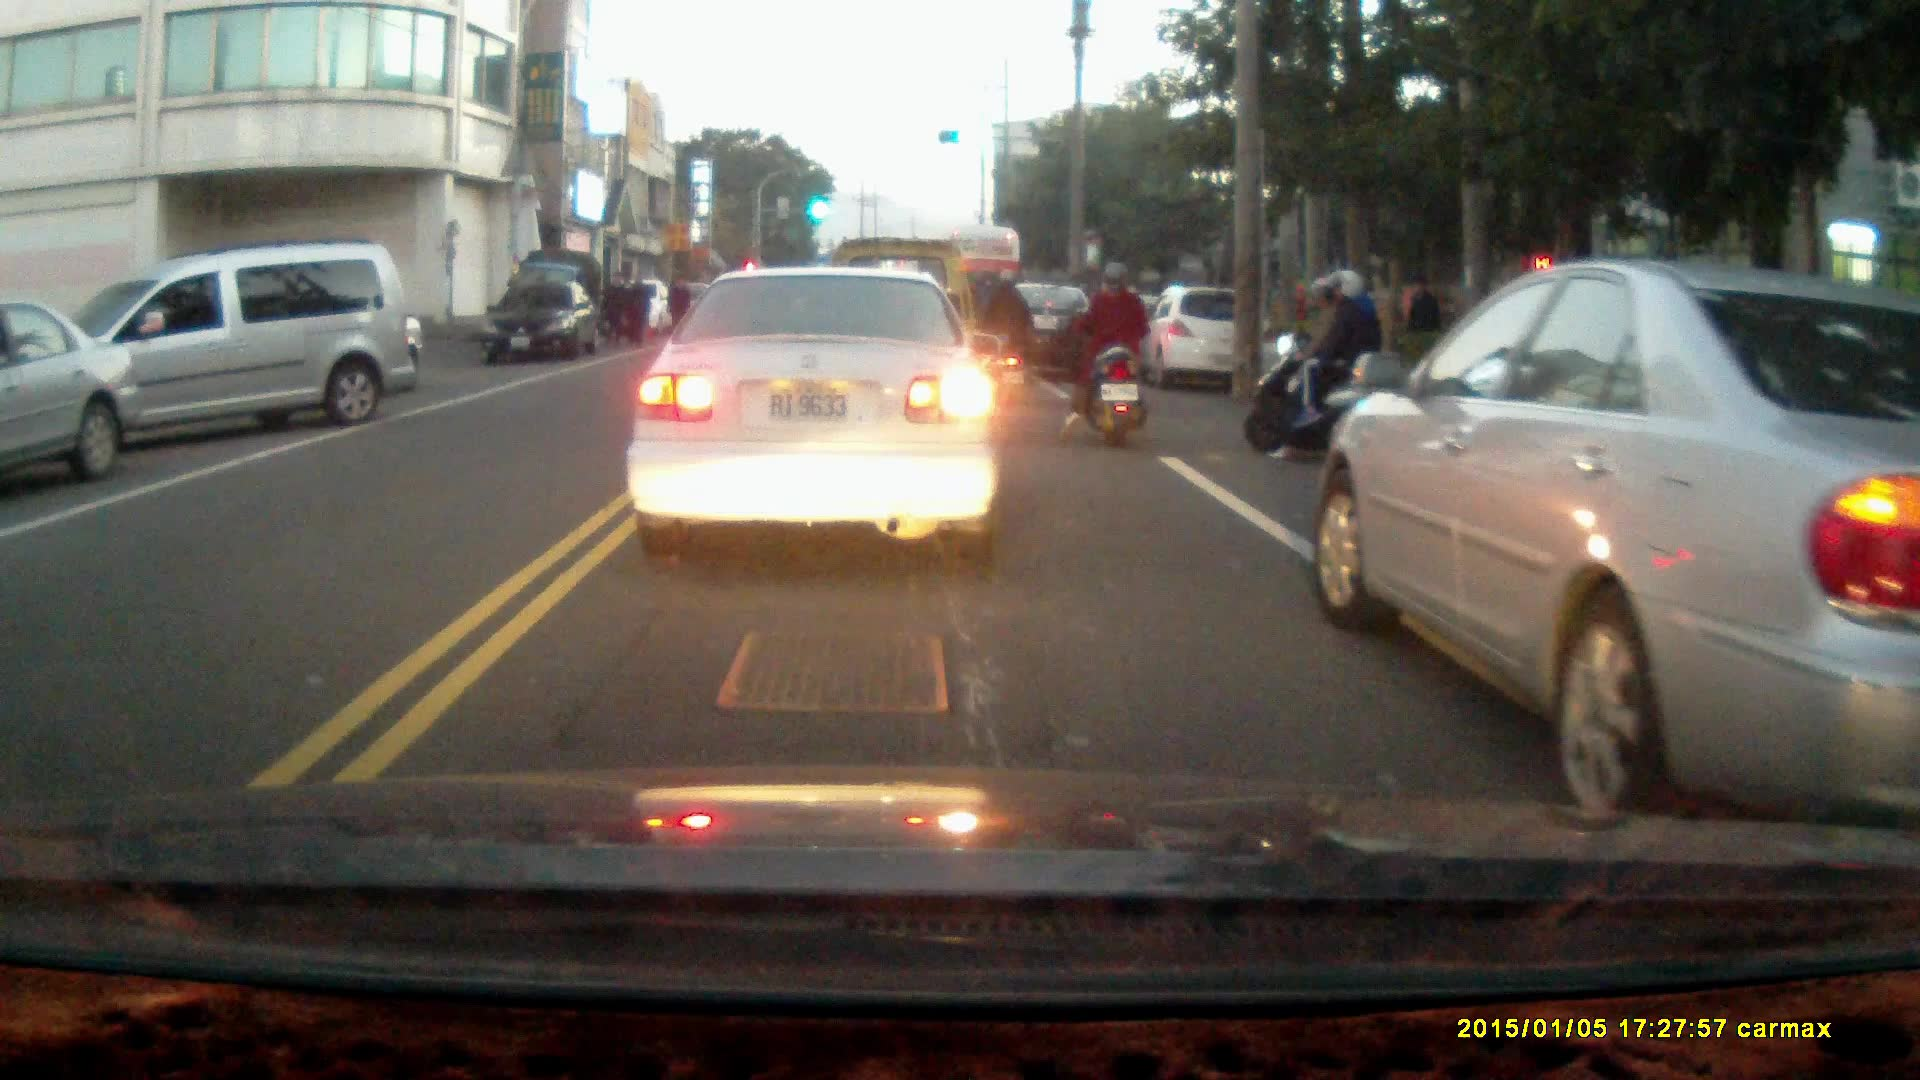pedestrian: (1403, 275, 1438, 364), (599, 272, 628, 351), (622, 272, 649, 350), (664, 272, 692, 341)
rider: (1243, 265, 1392, 463), (1055, 261, 1151, 447), (965, 269, 1030, 395)
vehicle: (1313, 256, 1920, 812), (635, 269, 1004, 575), (39, 247, 410, 459), (1, 300, 140, 482), (1137, 285, 1275, 397), (972, 285, 1111, 385), (487, 279, 607, 366)
